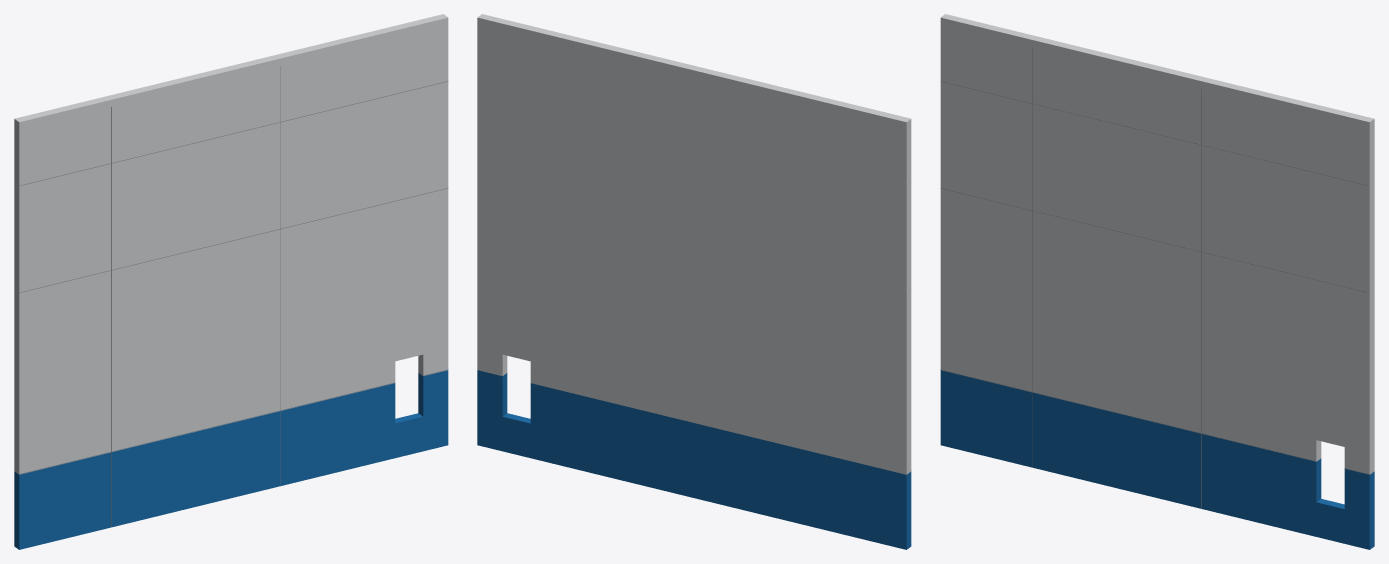
Rendered from SM_MPR_CAD_Facade_10_20261112.fbx.
3 views of the same model, side by side, from view 1: azimuth 30°, elevation 25°; view 2: azimuth 150°, elevation 25°; view 3: azimuth 330°, elevation 25° (orthographic).
Visible parts, largest first — view 1: SM_MPR_CAD_Facade_10_20261112; view 2: SM_MPR_CAD_Facade_10_20261112; view 3: SM_MPR_CAD_Facade_10_20261112.
Part boxes in pixels (x1=…): SM_MPR_CAD_Facade_10_20261112: x1=14, y1=14, x2=448, y2=549; SM_MPR_CAD_Facade_10_20261112: x1=477, y1=14, x2=911, y2=549; SM_MPR_CAD_Facade_10_20261112: x1=940, y1=14, x2=1374, y2=549.
Bounding box in the file's own units: 1554 × 31.44 × 1480.
